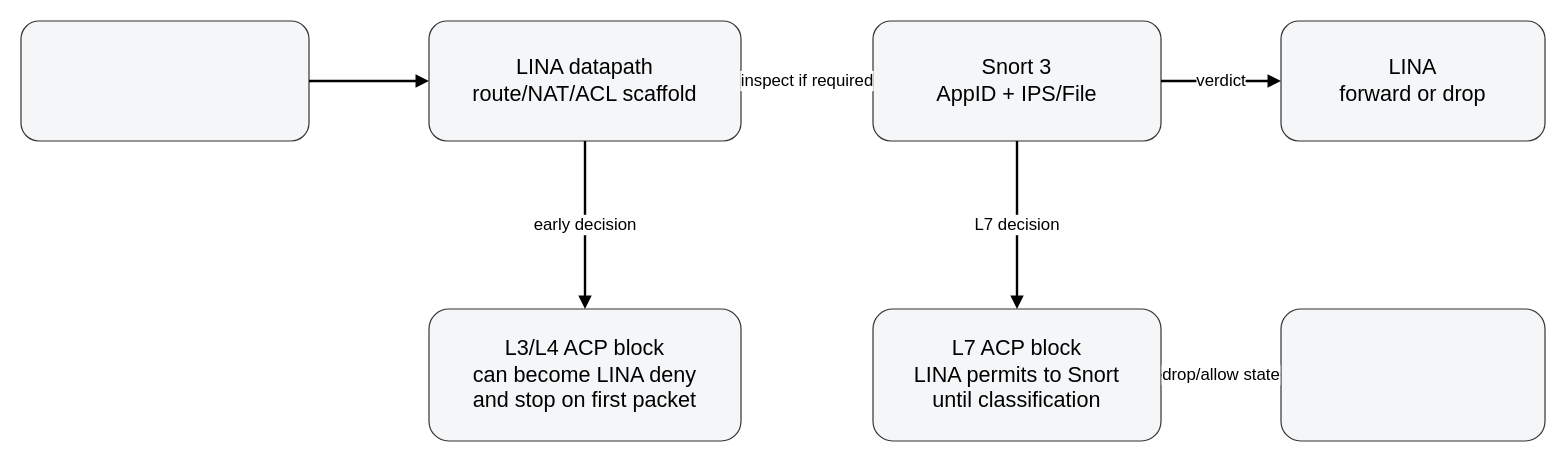
Image size: 1566x462. Some labels were removed from this diagram. Here are the shapes that lost their labels. From the top down, the box of each, then its label:
(20, 20, 309, 141): Client SYN 10.10.10.10:51515 → 198.51.100.20:443
(1280, 308, 1545, 441): Session state subsequent packets follow installed verdict
